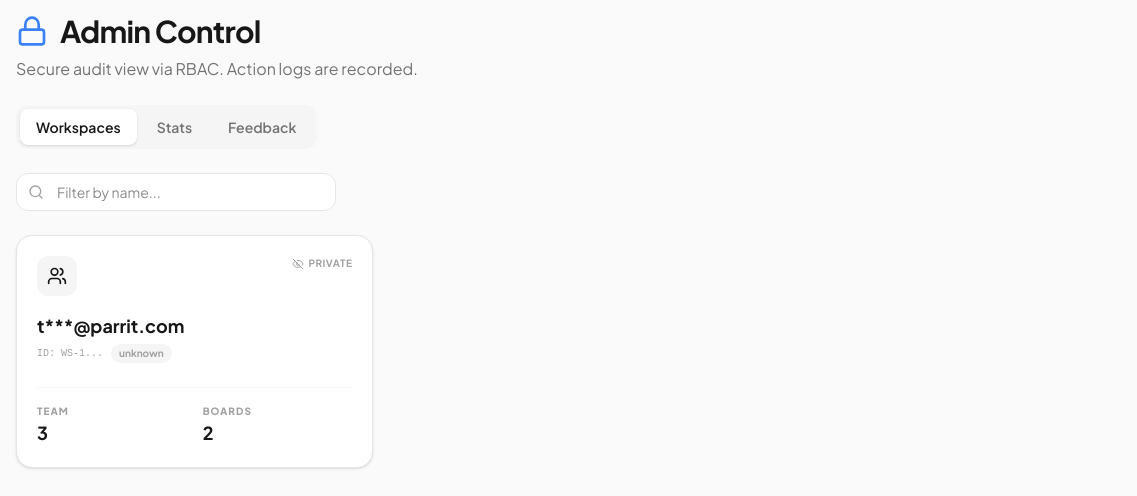
AdminPortal › filters workspaces and shows the empty search state
Expected: the heading "t***@parrit.com" is shown, [37,314,184,337]
Type "nomatch" into the field with placeholder "Filter by name...". click: {"x": 176, "y": 192}
box: [16,173,336,211]
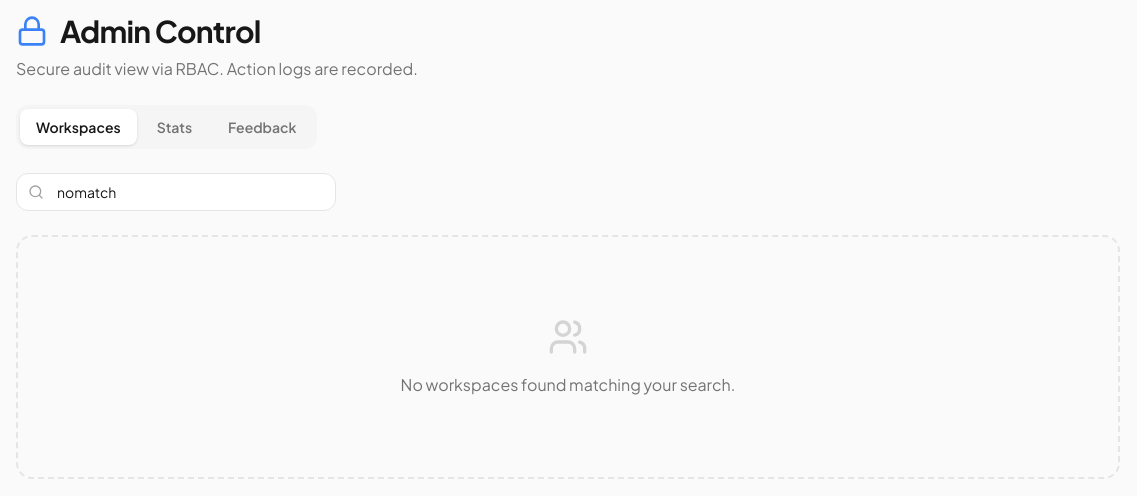
Result: the text "No workspaces found matching your search." is shown at [401,374,735,395]
